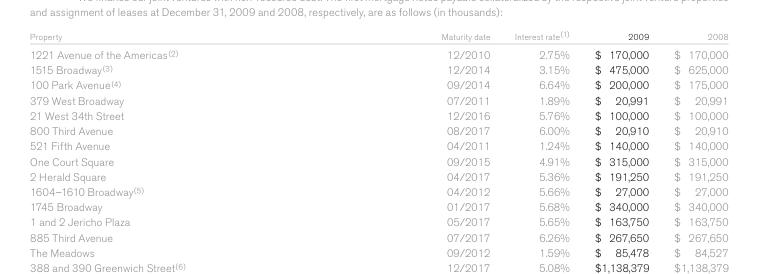table: (29, 29, 727, 243)
table column: (29, 29, 309, 243), (309, 29, 501, 243), (501, 29, 581, 243), (581, 29, 660, 243), (660, 29, 727, 243)
table column header: (29, 29, 727, 44)
table row: (29, 44, 727, 62), (29, 122, 727, 138), (29, 198, 727, 214), (29, 29, 727, 44), (29, 62, 727, 77), (29, 77, 727, 92), (29, 92, 727, 107), (29, 107, 727, 122), (29, 138, 727, 153), (29, 153, 727, 168), (29, 168, 727, 183), (29, 183, 727, 198), (29, 214, 727, 229), (29, 229, 727, 243)
